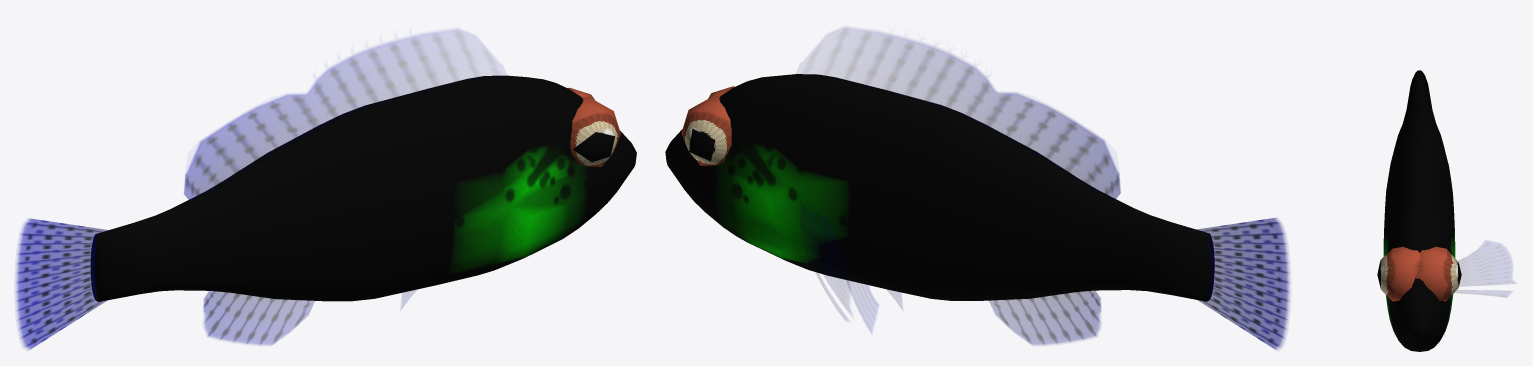
The model's file is hawkfish_lod1.glb.
3 renders of one model, left to right at view 1: azimuth 30°, elevation 25°; view 2: azimuth 150°, elevation 25°; view 3: azimuth 270°, elevation 25°, orthographic. The views are drawn at different scales.
Parts seen in each view (by area): view 1: Body, FinDorsal, FinCaudal, FinAnal, EyeR; view 2: Body, FinDorsal, FinCaudal, FinAnal, EyeL, FinPectoralL, FinPelvicL; view 3: Body, FinPectoralL, EyeL, EyeR.
Part boxes in pixels (left/top/right/bottom): Body: left=90, top=75, right=636, bottom=301; FinDorsal: left=184, top=29, right=500, bottom=200; FinCaudal: left=15, top=218, right=109, bottom=349; FinAnal: left=203, top=291, right=314, bottom=344; EyeR: left=570, top=96, right=620, bottom=166; Body: left=665, top=74, right=1214, bottom=301; FinDorsal: left=802, top=27, right=1120, bottom=199; FinCaudal: left=1195, top=218, right=1289, bottom=349; FinAnal: left=989, top=291, right=1100, bottom=344; EyeL: left=681, top=95, right=731, bottom=165; FinPectoralL: left=800, top=201, right=850, bottom=319; FinPelvicL: left=847, top=280, right=878, bottom=331; Body: left=1383, top=70, right=1455, bottom=351; FinPectoralL: left=1455, top=241, right=1515, bottom=297; EyeL: left=1415, top=246, right=1461, bottom=301; EyeR: left=1377, top=246, right=1419, bottom=301.
Size of the model in its own units: 1 by 0.4645 by 0.3319.
Materials: 4 (3 with a texture image).
